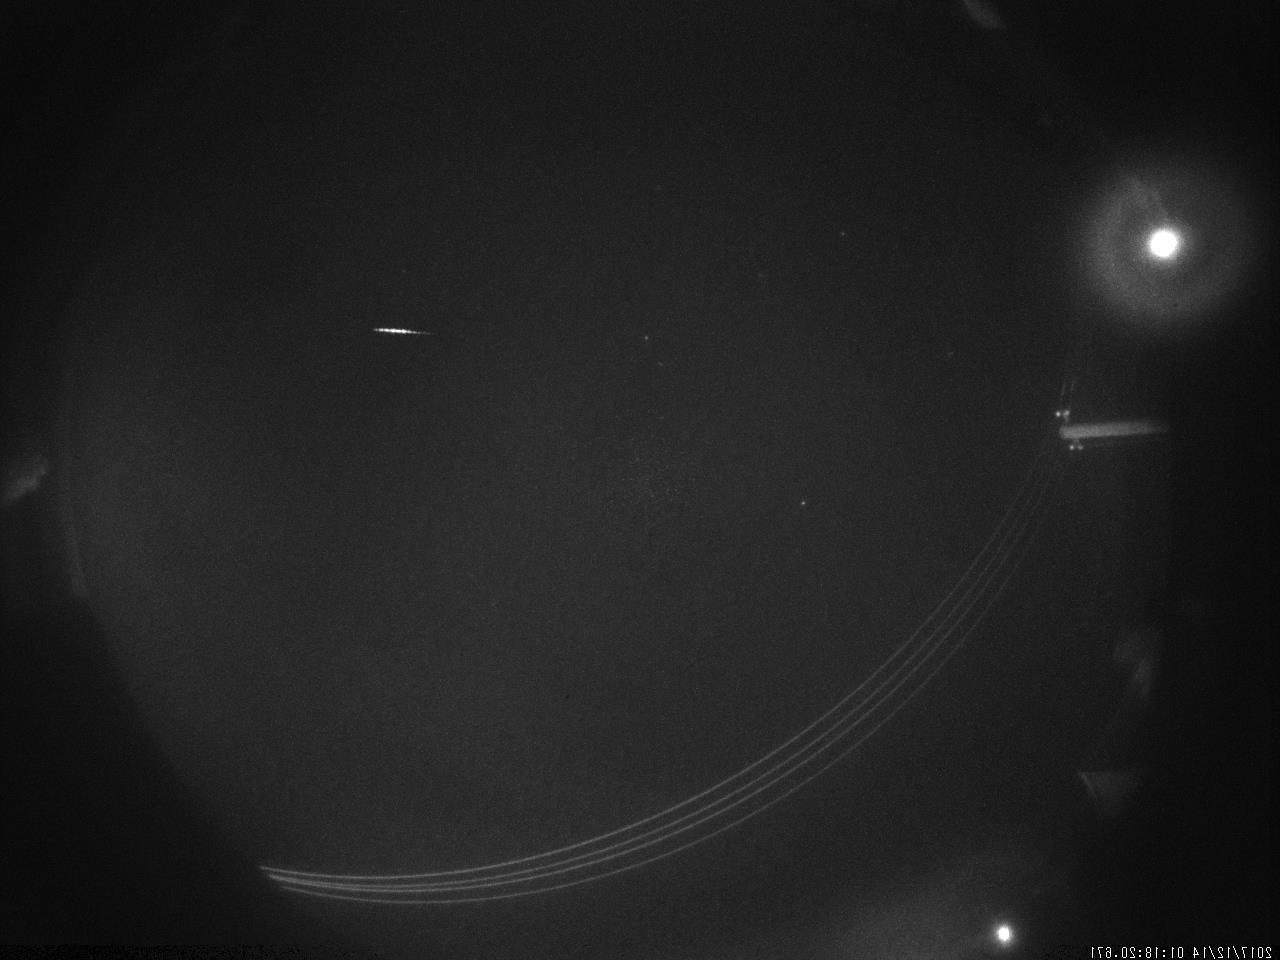meteor: (353, 316, 457, 353)
